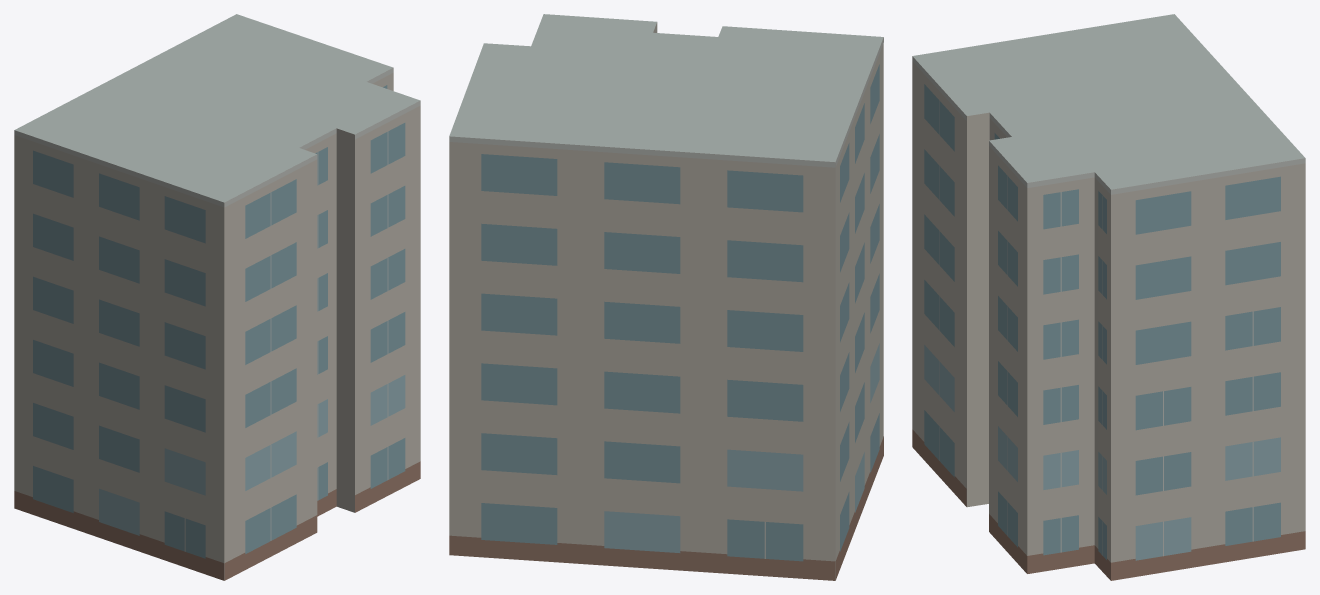
Rendered from survey-upis-32864501.glb.
The picture shows the model from 3 angles, left to right: view 1: azimuth 30°, elevation 25°; view 2: azimuth 150°, elevation 25°; view 3: azimuth 270°, elevation 25°; orthographic projection. The views are drawn at different scales.
Parts seen in each view (by area): view 1: survey-upis-32864501.tmp; view 2: survey-upis-32864501.tmp; view 3: survey-upis-32864501.tmp.
Boxes of the visible parts, left/top/right/bottom form: survey-upis-32864501.tmp: left=14, top=14, right=420, bottom=580; survey-upis-32864501.tmp: left=449, top=14, right=883, bottom=580; survey-upis-32864501.tmp: left=912, top=14, right=1305, bottom=580.
Bounding box in the file's own units: 17.89 × 18.55 × 16.91.
